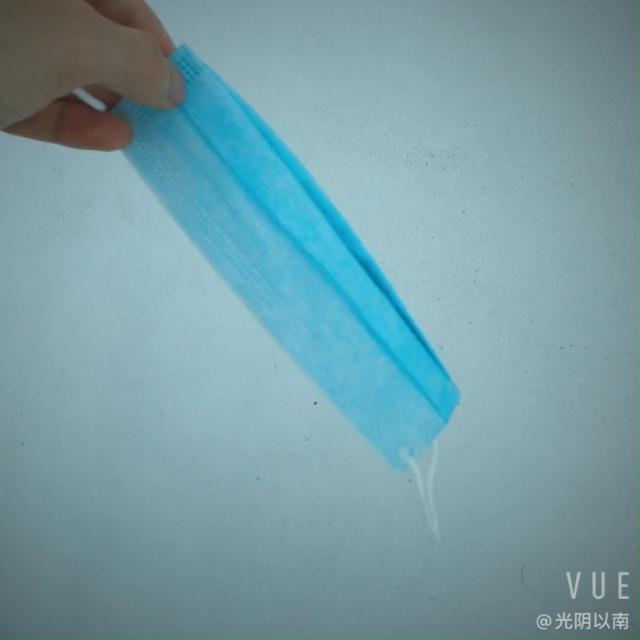non-organic waste: (111, 43, 468, 477)
